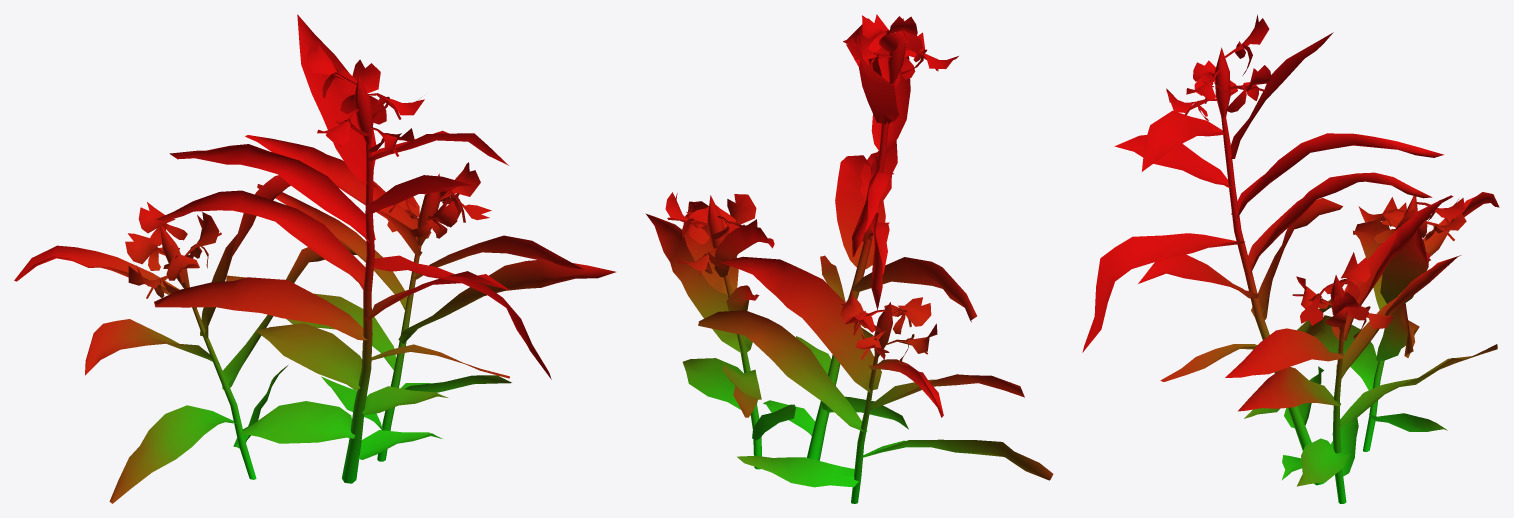
The model's file is Var6_LOD0.fbx.
3 views of the same model, side by side, from view 1: azimuth 30°, elevation 25°; view 2: azimuth 150°, elevation 25°; view 3: azimuth 270°, elevation 25° (orthographic). The views are drawn at different scales.
Visible parts, largest first — view 1: _0420_Var6_LOD0; view 2: _0420_Var6_LOD0; view 3: _0420_Var6_LOD0.
Part boxes in pixels (box(x1,y1,x2,y2)): _0420_Var6_LOD0: box(14, 14, 615, 503); _0420_Var6_LOD0: box(645, 14, 1053, 503); _0420_Var6_LOD0: box(1082, 14, 1499, 503).
Bounding box in the file's own units: 83.43 × 81.16 × 70.07.
